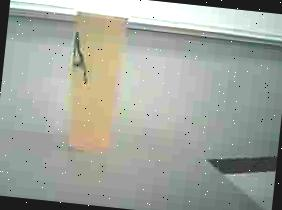Bottle A: (68, 1, 129, 150)
